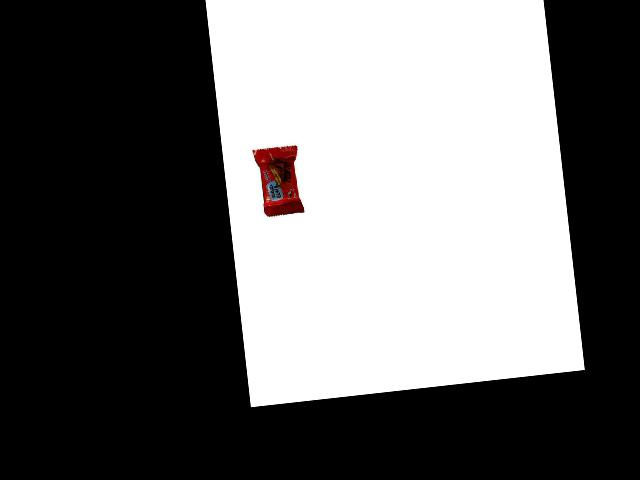chocolate: (248, 144, 304, 224)
